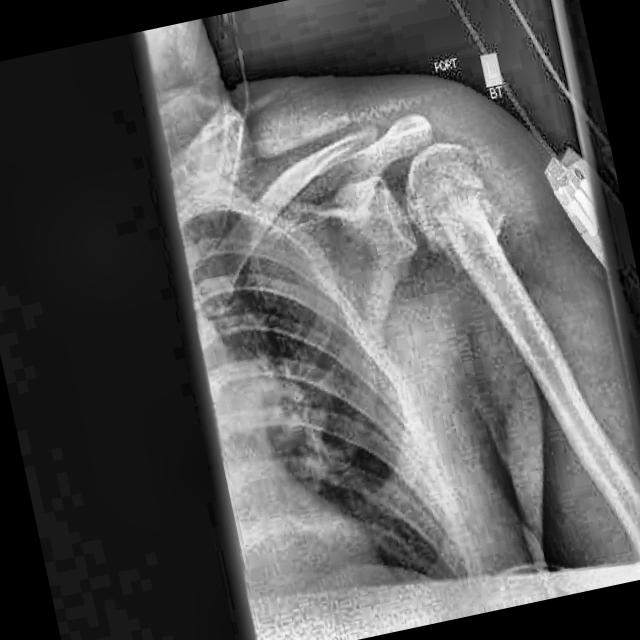shoulder fracture: (314, 108, 406, 188), (456, 167, 530, 250)
